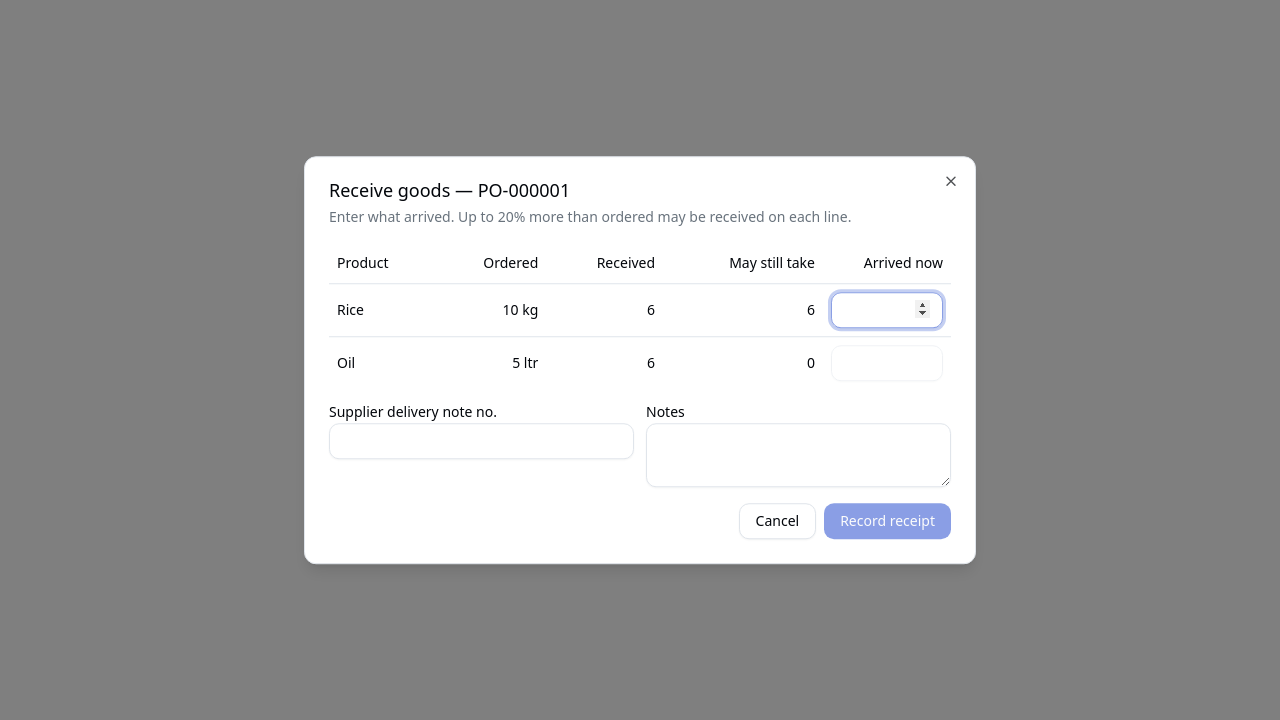
it: receiving goods › shows the server's refusal instead of closing
Type "9" into the number field named "Quantity of Rice arrived" at coordinates (887, 310), box [831, 292, 943, 328]
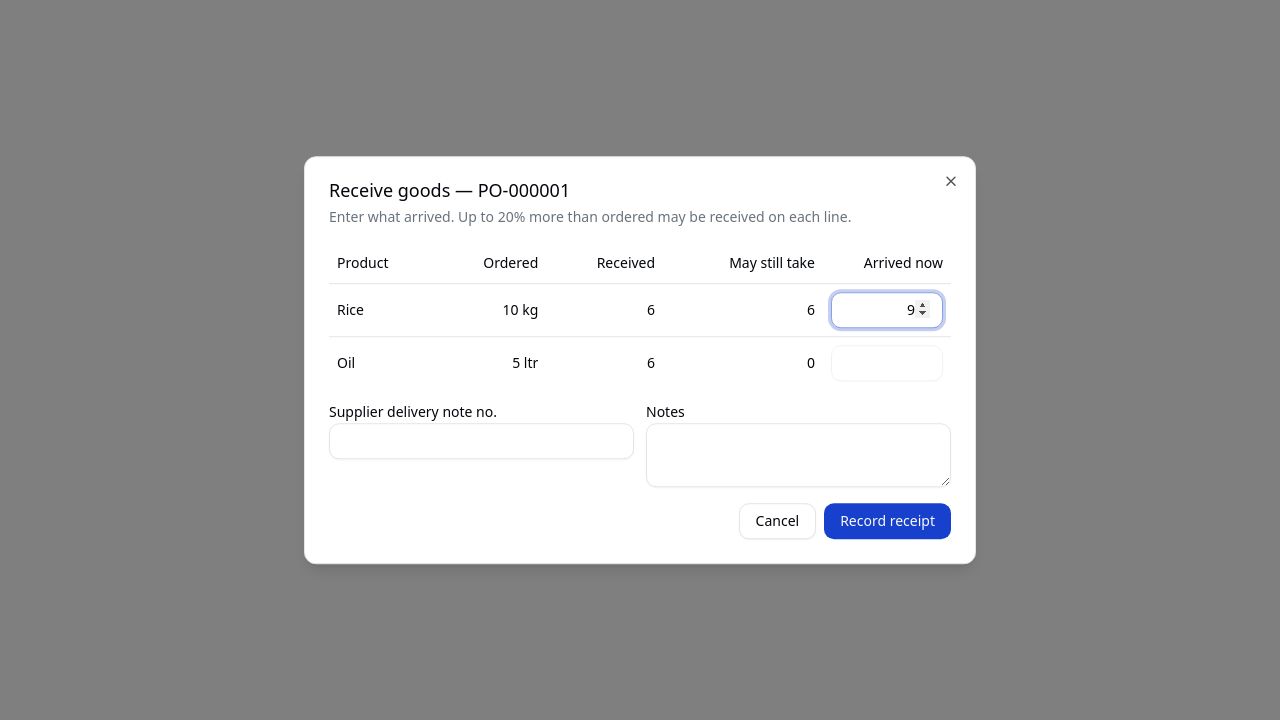
Click the button "Record receipt" at coordinates (888, 521), box [824, 503, 951, 539]
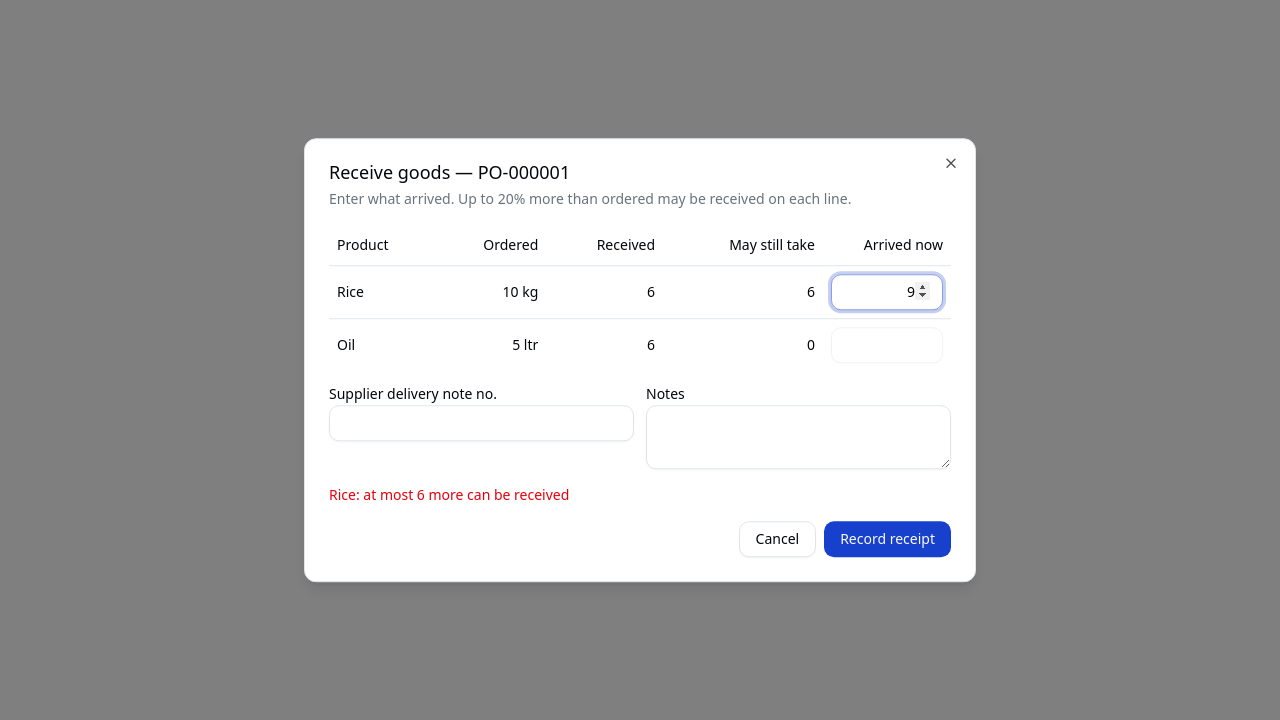
Check: the message shows "at most 6 more", box [329, 485, 569, 504]
